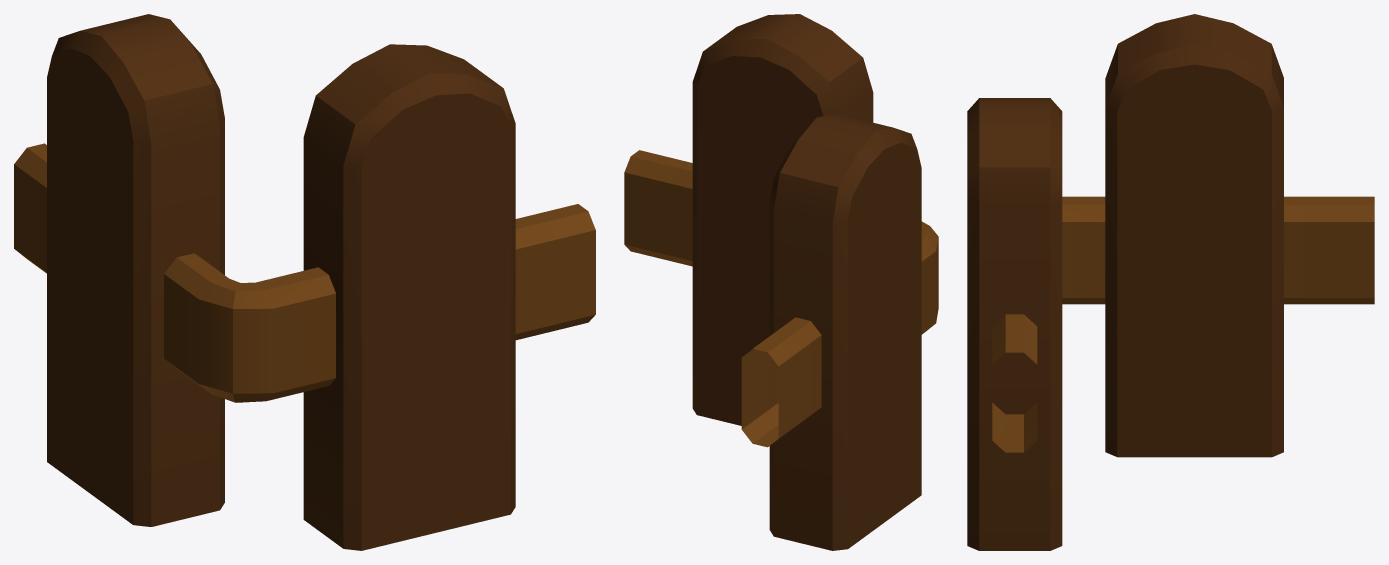
Rendered from Fence_Corner.fbx.
The picture shows the model from 3 angles, left to right: view 1: azimuth 30°, elevation 25°; view 2: azimuth 150°, elevation 25°; view 3: azimuth 270°, elevation 25°; orthographic projection. The views are drawn at different scales.
Parts seen in each view (by area): view 1: Fence_Corner; view 2: Fence_Corner; view 3: Fence_Corner.
Part boxes in pixels (<box>): Fence_Corner: <box>14,14,595,550</box>; Fence_Corner: <box>624,14,938,550</box>; Fence_Corner: <box>967,14,1374,550</box>.
Size of the model in its own units: 113 by 125 by 113.
